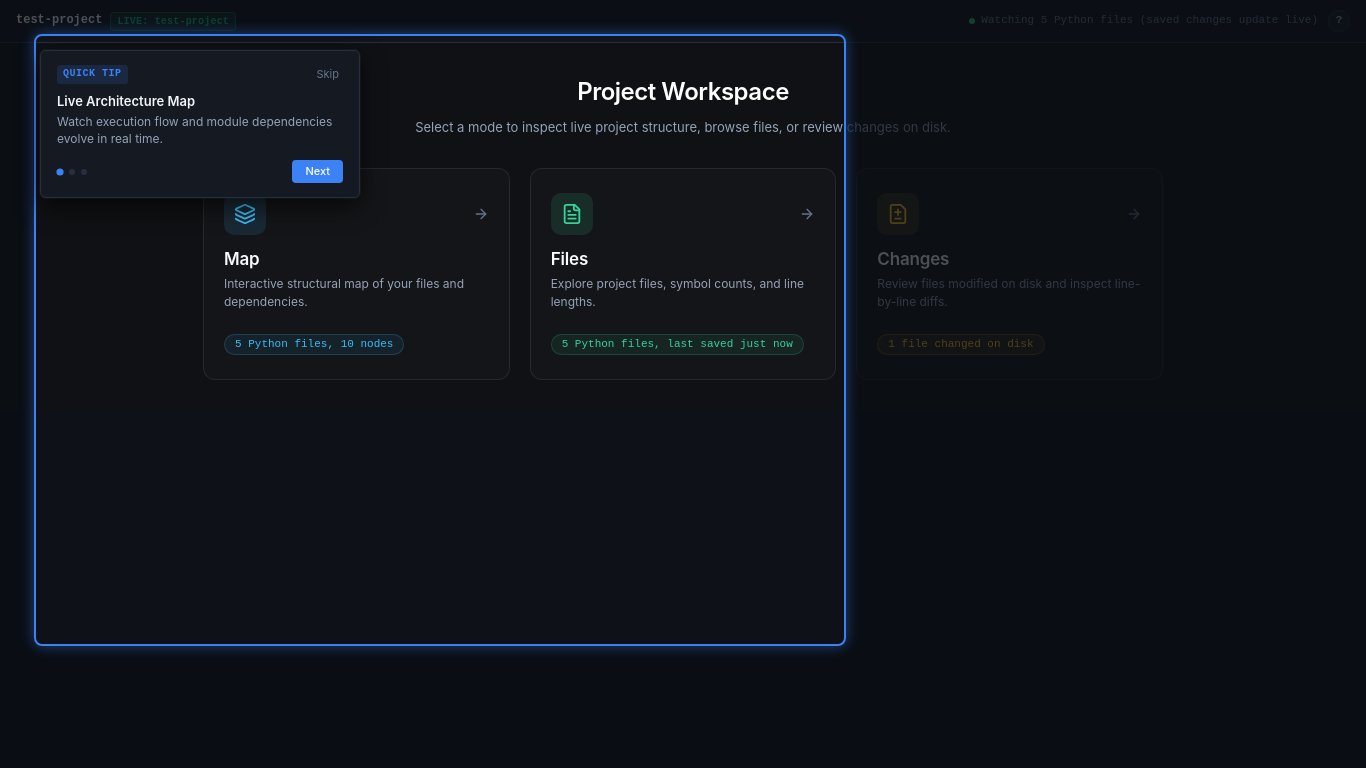
Test: First-Use Tips System › Integration Across Screens › LiveEntranceScreen shows tips on first visit and replays via "?" button
expect the button with test id "entrance-help-tips-btn" is shown: met, box [1328,10,1350,32]
Click the button with test id "tip-skip-btn".
click(328, 74)  # box [312,66,343,83]
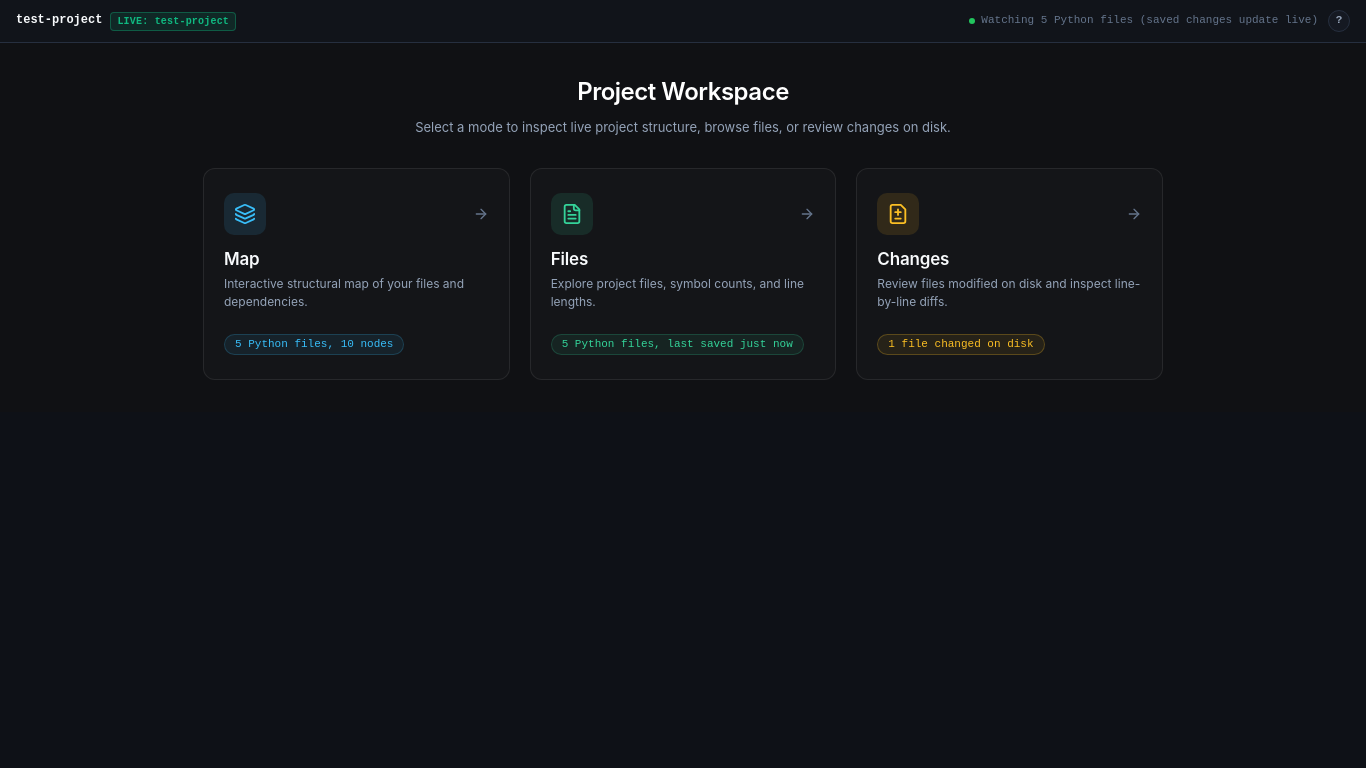
expect the element with test id "first-use-tip-overlay" is gone: met
Note: Replay via "?" button
Click the button with test id "entrance-help-tips-btn".
click(1339, 21)  # box [1328,10,1350,32]
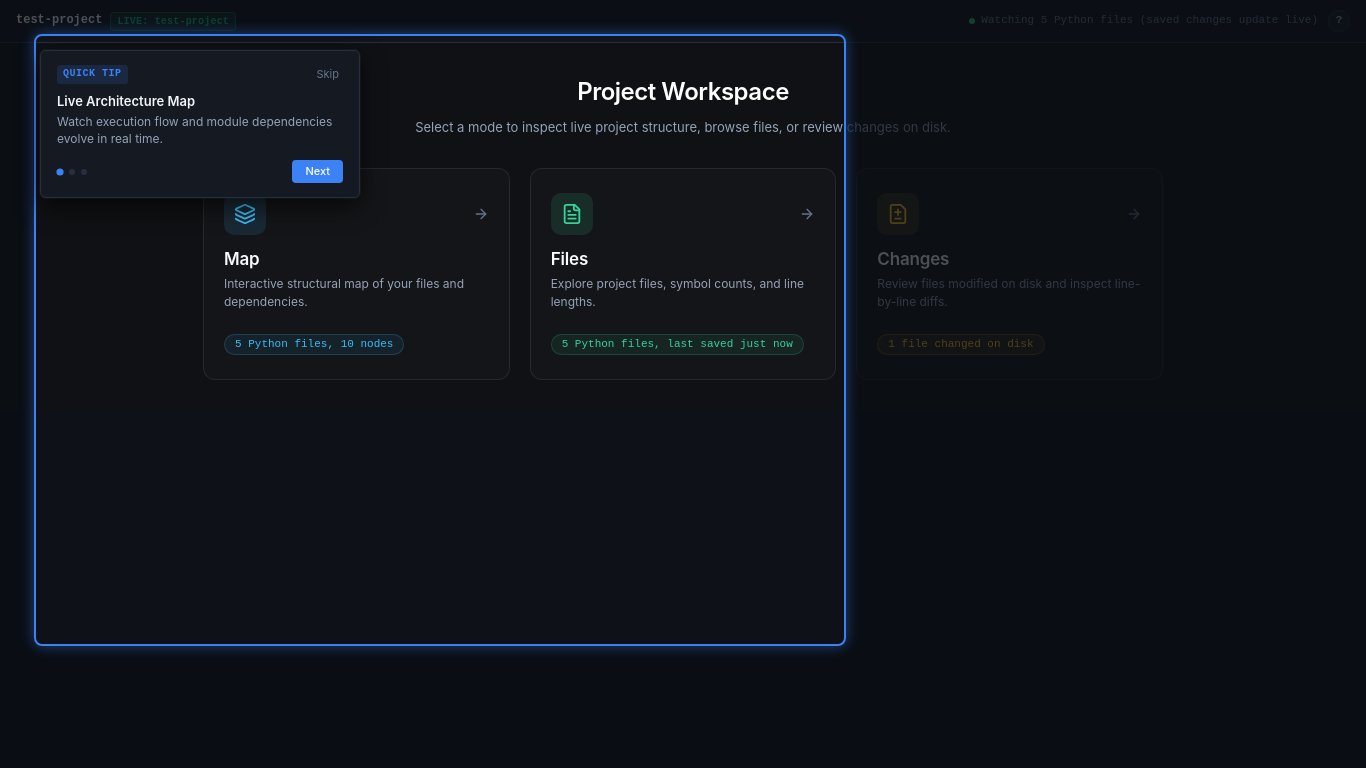
expect the element with test id "first-use-tip-overlay" is shown: met
